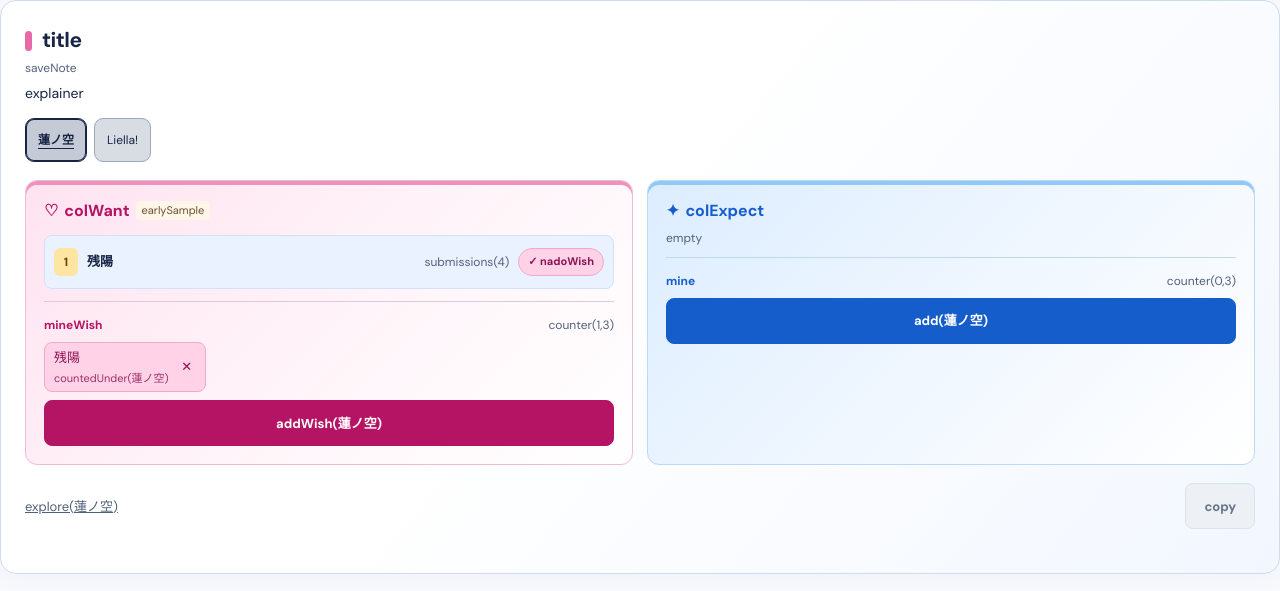
Scenario: <FanBoardSection> one-tap 나도 on rows › removes a checked row through the delete route with source=row
The width and height of the screenshot is (1280, 591).
Click the button with test id "board-nado" at point(561, 262), box [518, 248, 604, 276]
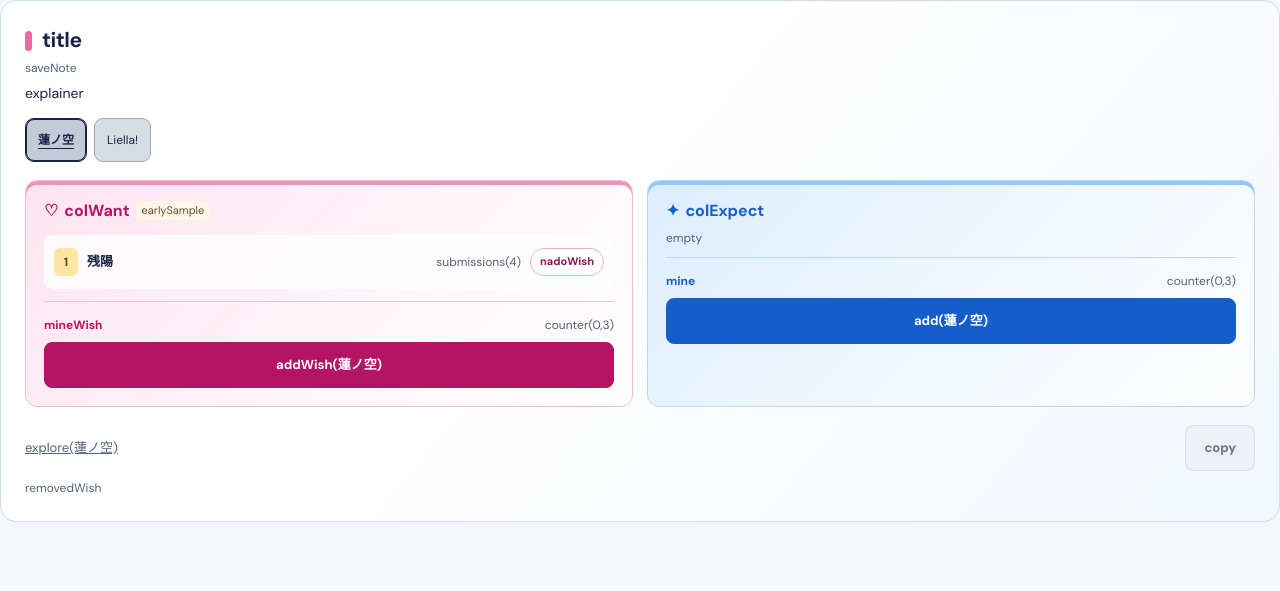
Check: the message with test id "board-toast" reads "removedWish", box [25, 480, 101, 496]
